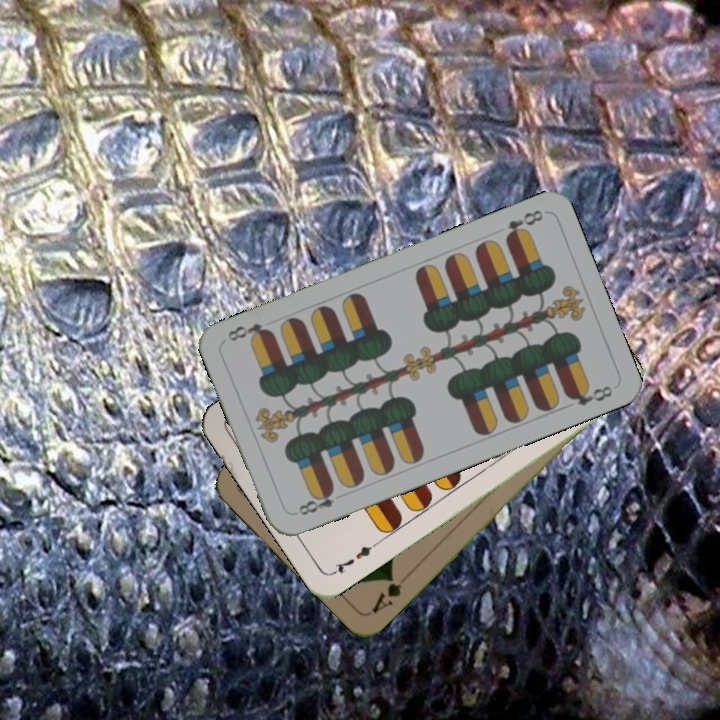E7: (328, 538, 380, 578)
E8: (501, 206, 546, 243), (294, 483, 337, 518)
GA: (367, 572, 405, 617)
